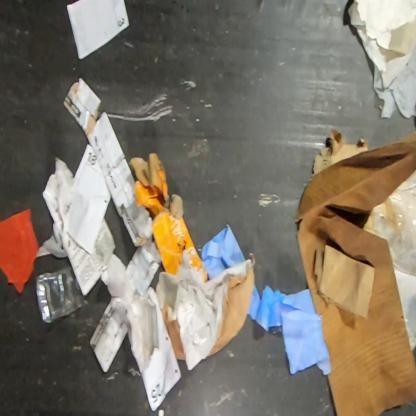cardboard: (295, 127, 415, 415), (155, 255, 255, 371), (128, 153, 208, 282)
rigid_plastic: (34, 264, 86, 322)
soft_plastic: (364, 170, 415, 367)
